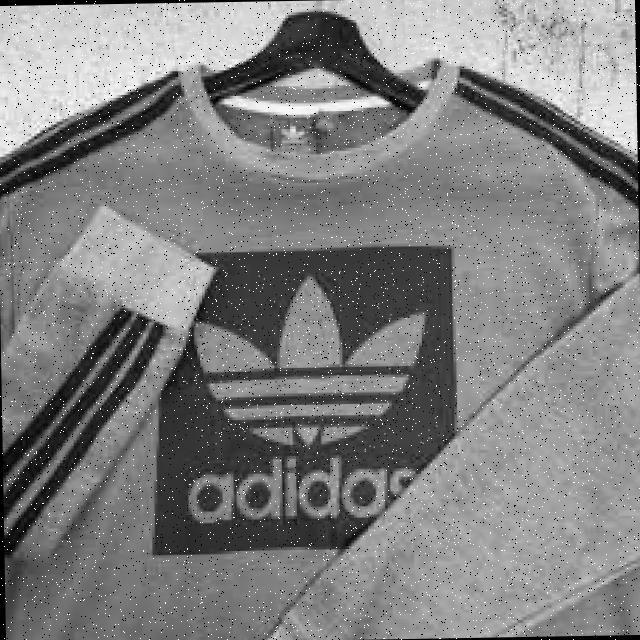Adidas: (178, 268, 437, 457), (272, 117, 321, 144)
